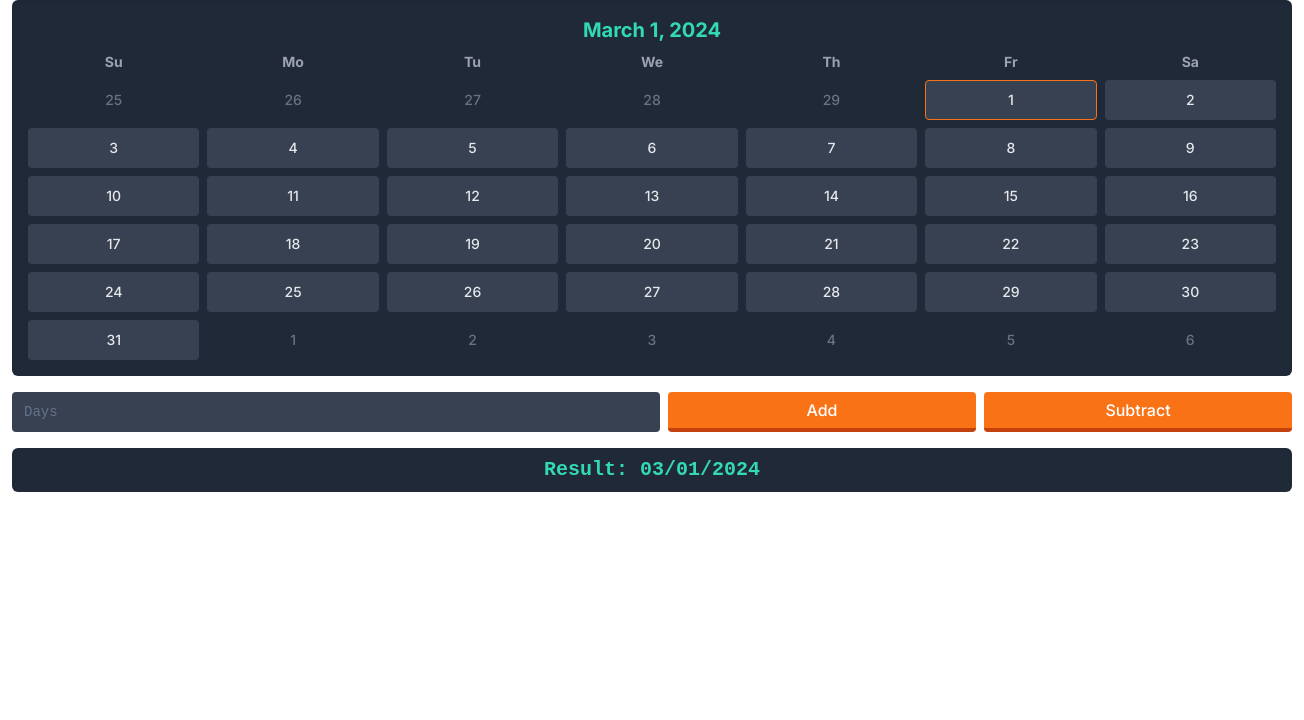
Test: DateCalculator › Date Calculator Controls › Date Calculation › should add days correctly
The image size is (1304, 720).
In the number field: (336, 412) [12,392,660,432], type "10"
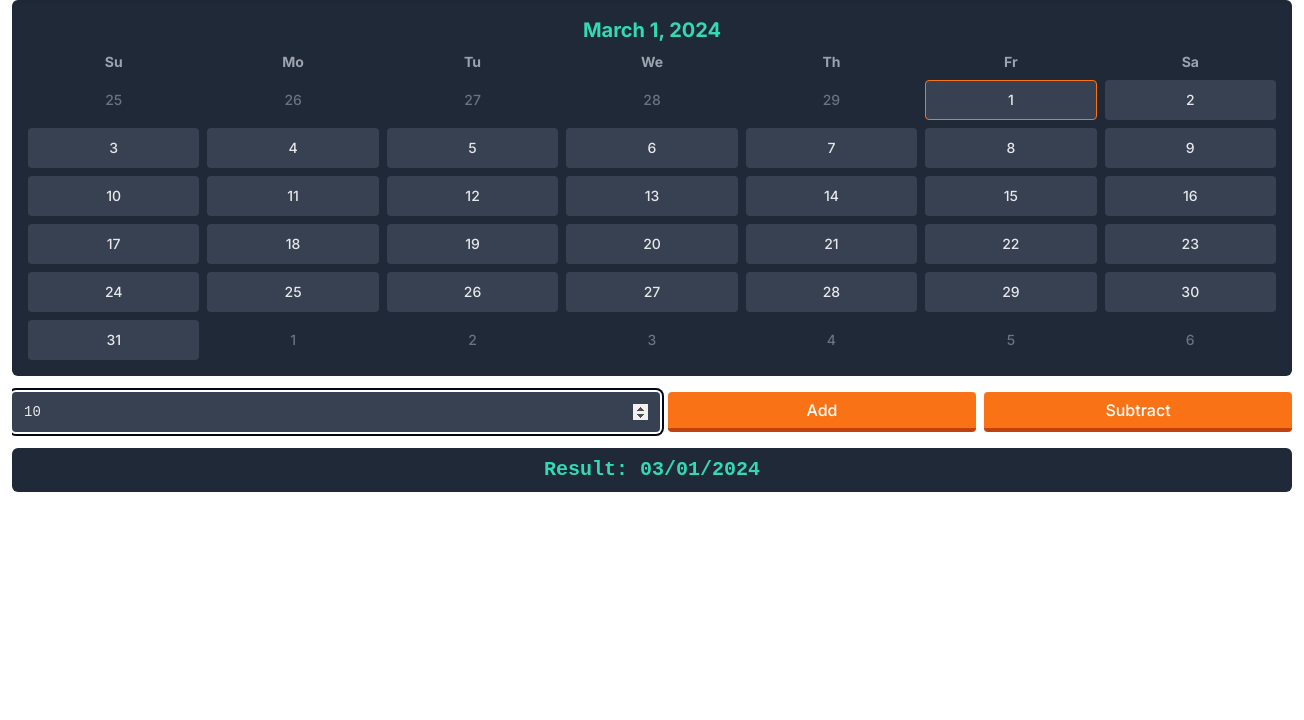
Click the button "Add": click(822, 412) [668,392,976,432]
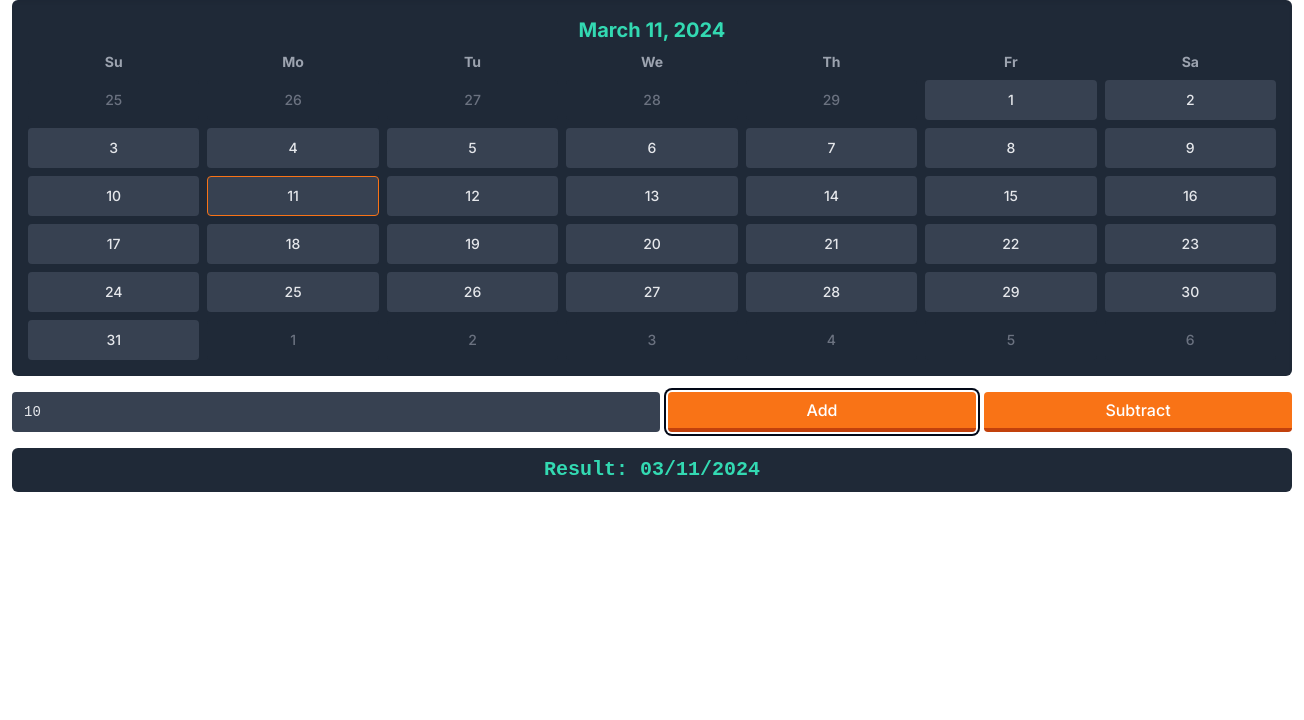
Now the text "March 11, 2024" is shown, box [579,18,725,42]
